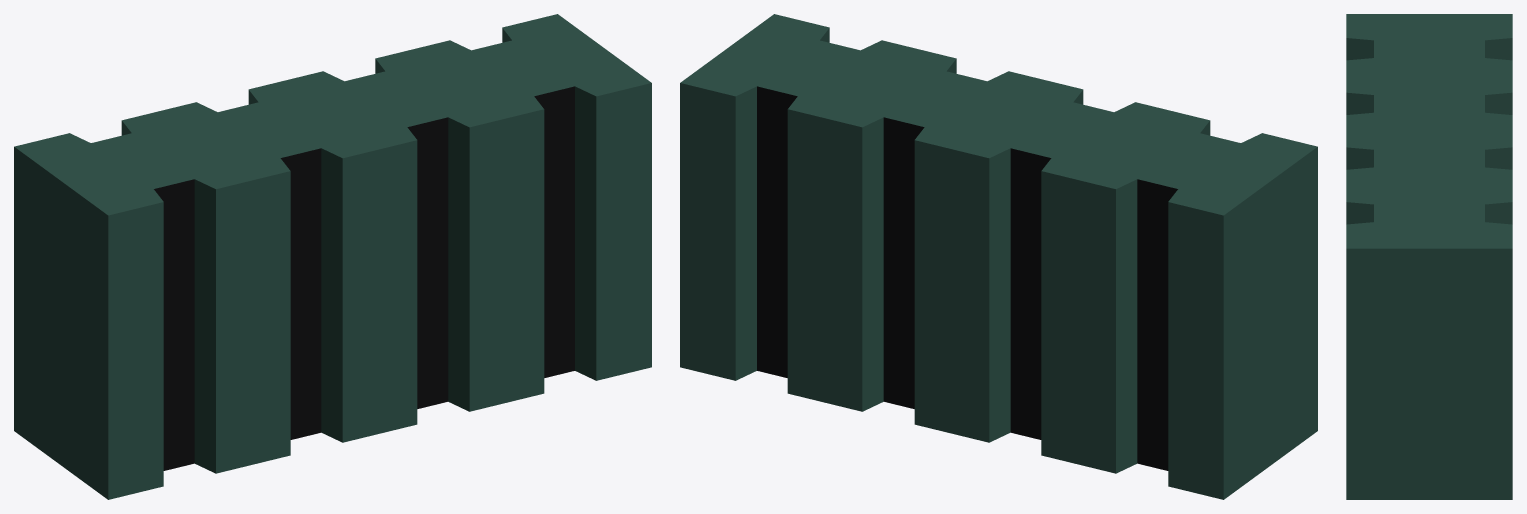
The model's file is W2_Wall_Ridge2Double_Top.fbx.
3 renders of one model, left to right at view 1: azimuth 30°, elevation 25°; view 2: azimuth 150°, elevation 25°; view 3: azimuth 270°, elevation 25°, orthographic. The views are drawn at different scales.
Visible parts, largest first — view 1: W2_Wall_Ridge2Double_Top.001; view 2: W2_Wall_Ridge2Double_Top.001; view 3: W2_Wall_Ridge2Double_Top.001.
Boxes of the visible parts, x1,y1,x2,y2 form: W2_Wall_Ridge2Double_Top.001: [14, 14, 651, 499]; W2_Wall_Ridge2Double_Top.001: [680, 14, 1317, 499]; W2_Wall_Ridge2Double_Top.001: [1346, 14, 1512, 499].
Size of the model in its own units: 1 by 0.5 by 0.3.
